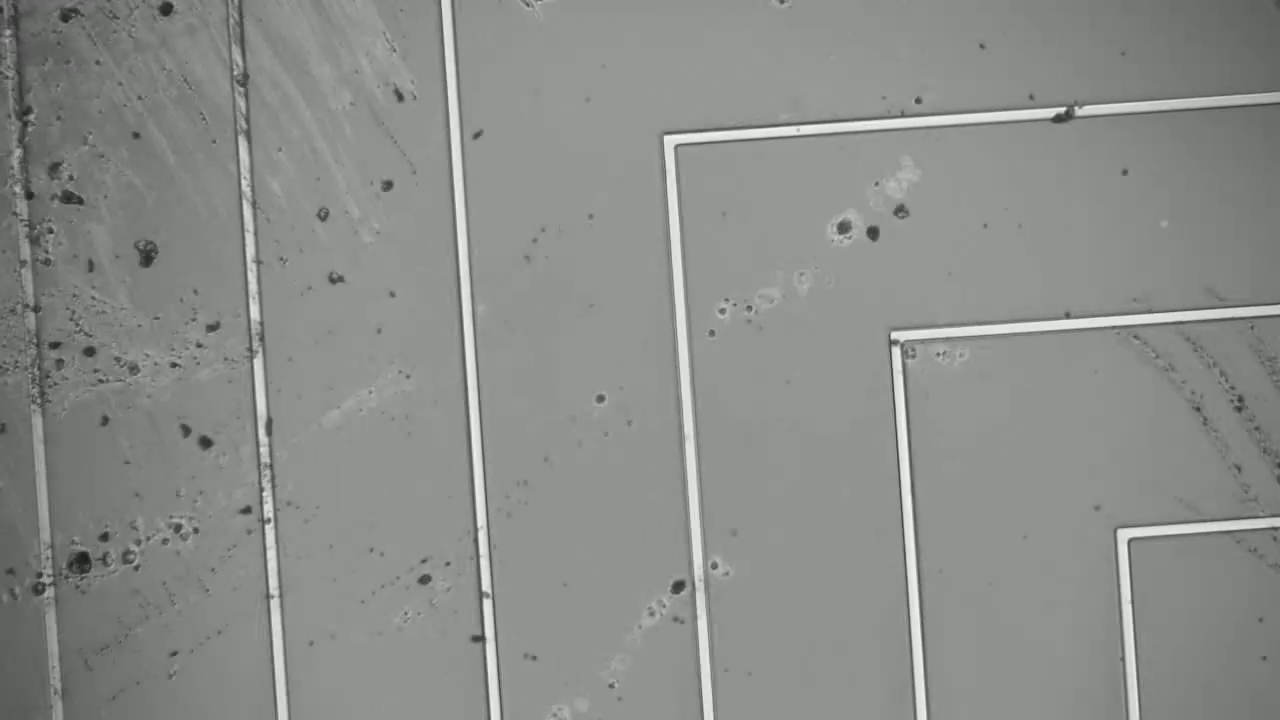stains_enbedded: (1046, 97, 1091, 131)
